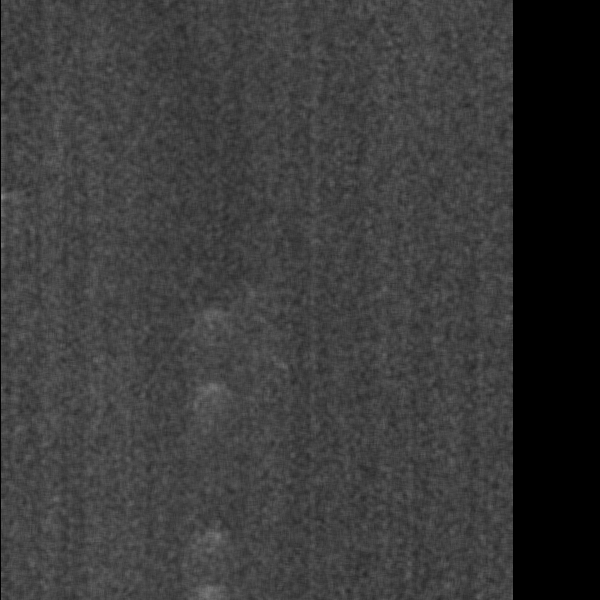spark: (235, 11, 326, 87), (125, 478, 215, 546), (94, 291, 162, 352), (316, 405, 356, 445), (182, 128, 225, 158), (190, 42, 229, 69), (493, 106, 512, 134)
